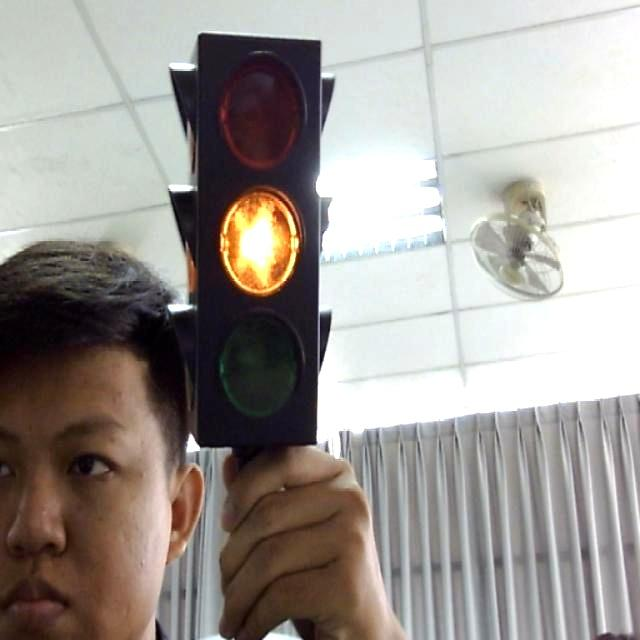Yellow: (180, 28, 355, 460)
